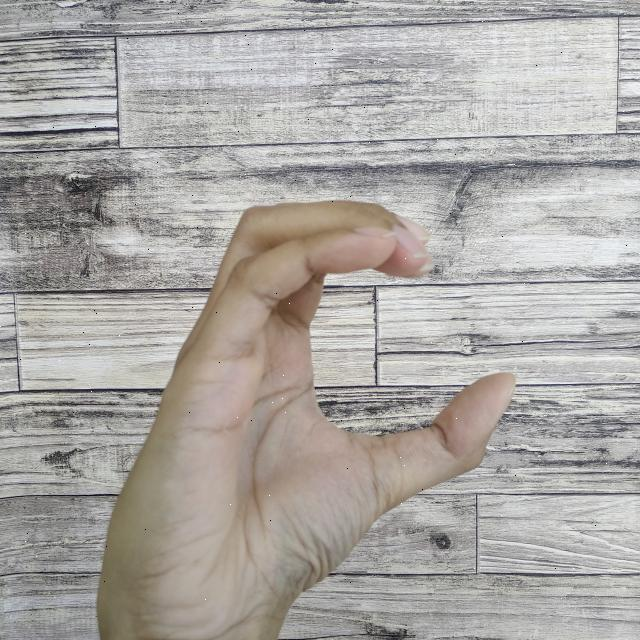C: (85, 193, 527, 640)
